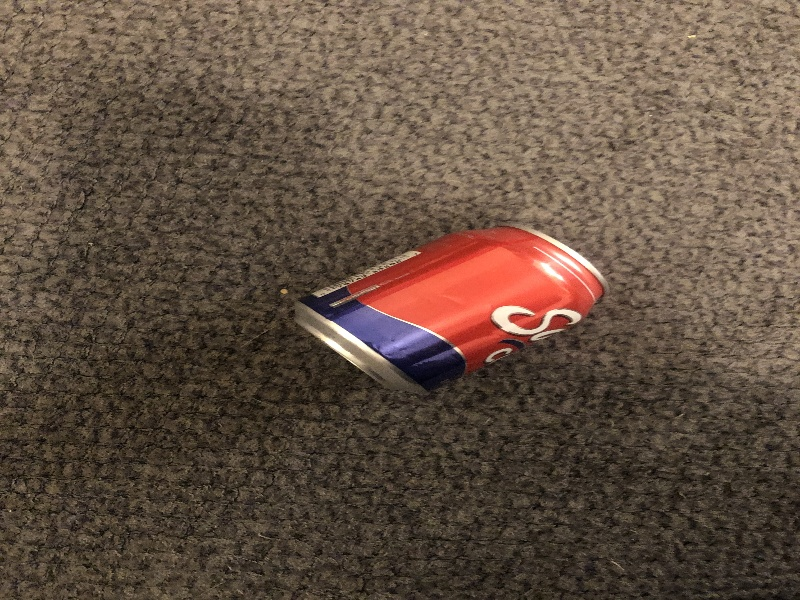metal: (282, 220, 613, 402)
